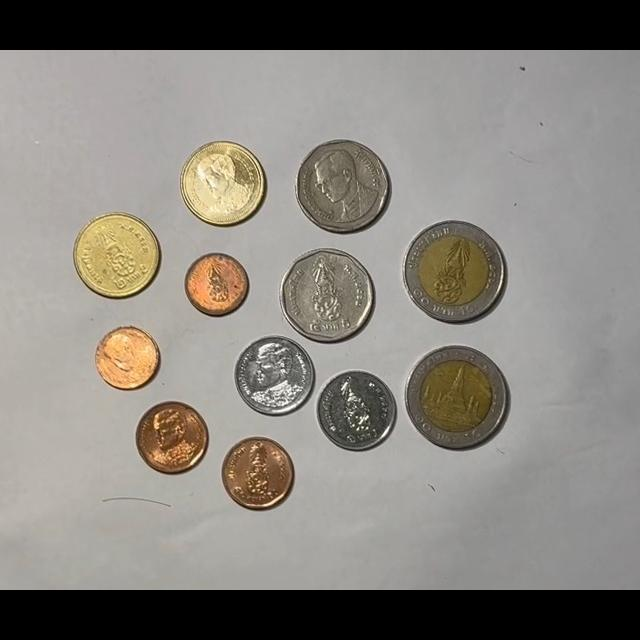1-baht: (316, 370, 398, 451), (234, 335, 315, 416)
10-baht: (405, 346, 509, 450), (402, 220, 507, 323)
2-baht: (180, 140, 267, 227), (73, 213, 160, 299)
25-satang: (95, 325, 161, 390), (184, 252, 249, 316)
5-baht: (279, 248, 374, 343), (296, 139, 391, 233)
50-satang: (221, 436, 294, 510), (136, 401, 209, 473)
